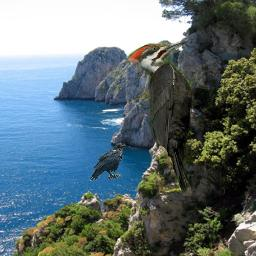Crow: (89, 143, 126, 181)
Woodpecker: (126, 40, 215, 196)
